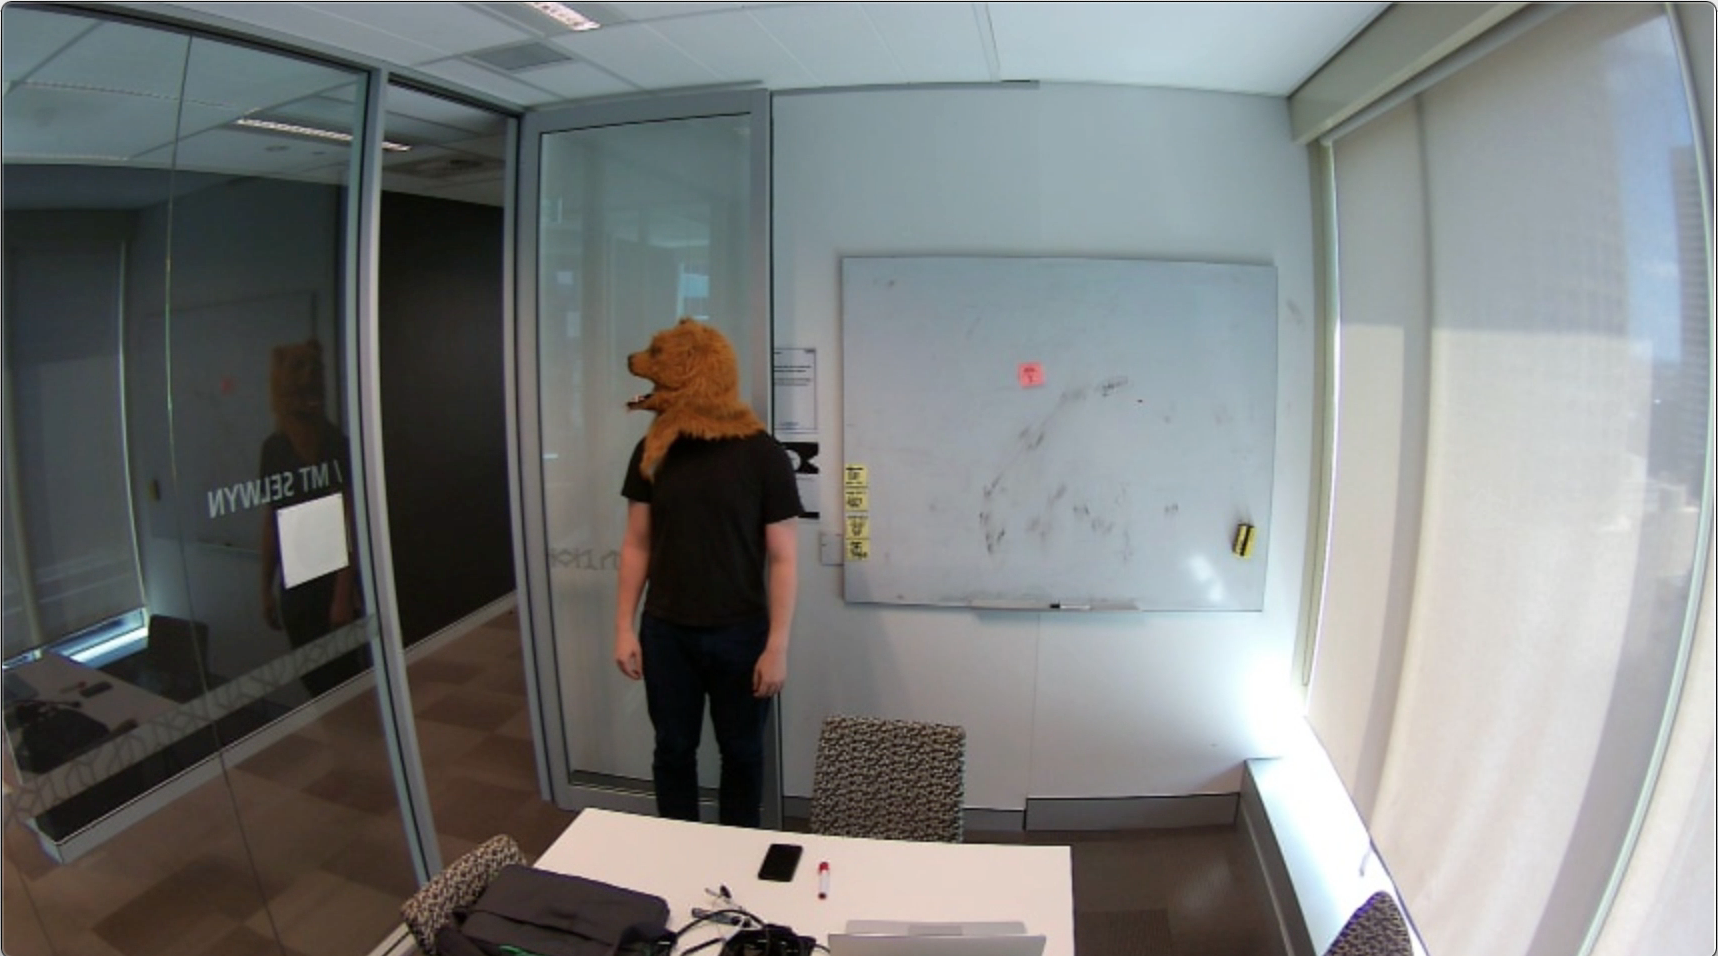Bear: (620, 308, 753, 433)
